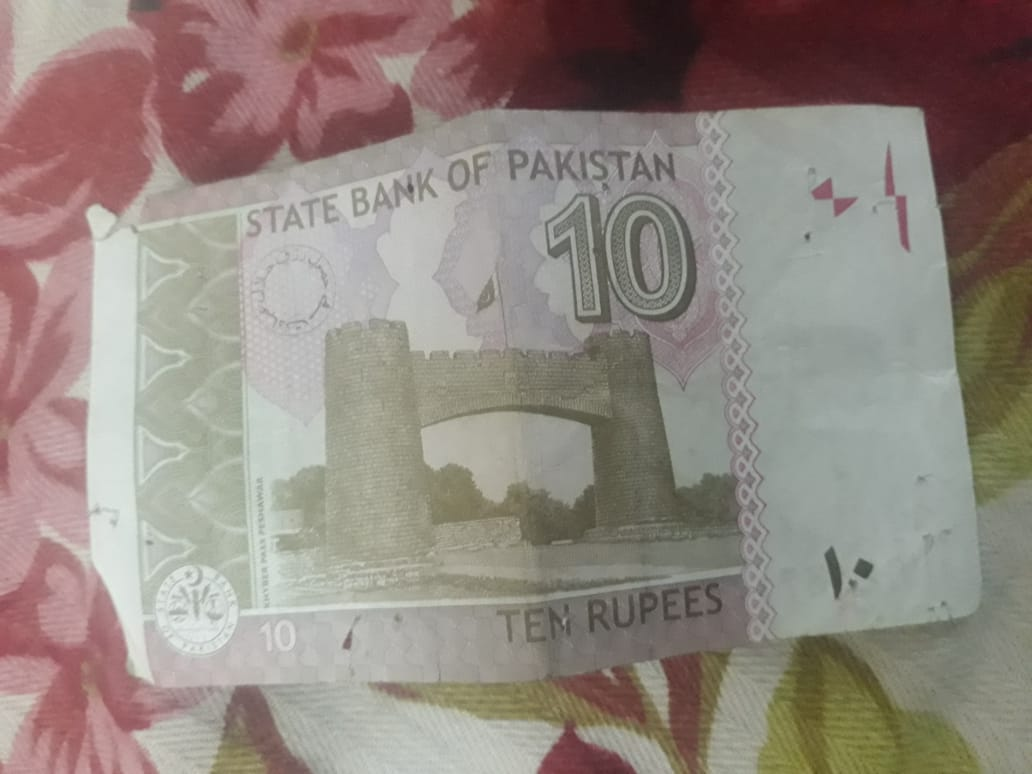10 rupee: (91, 115, 990, 680)
